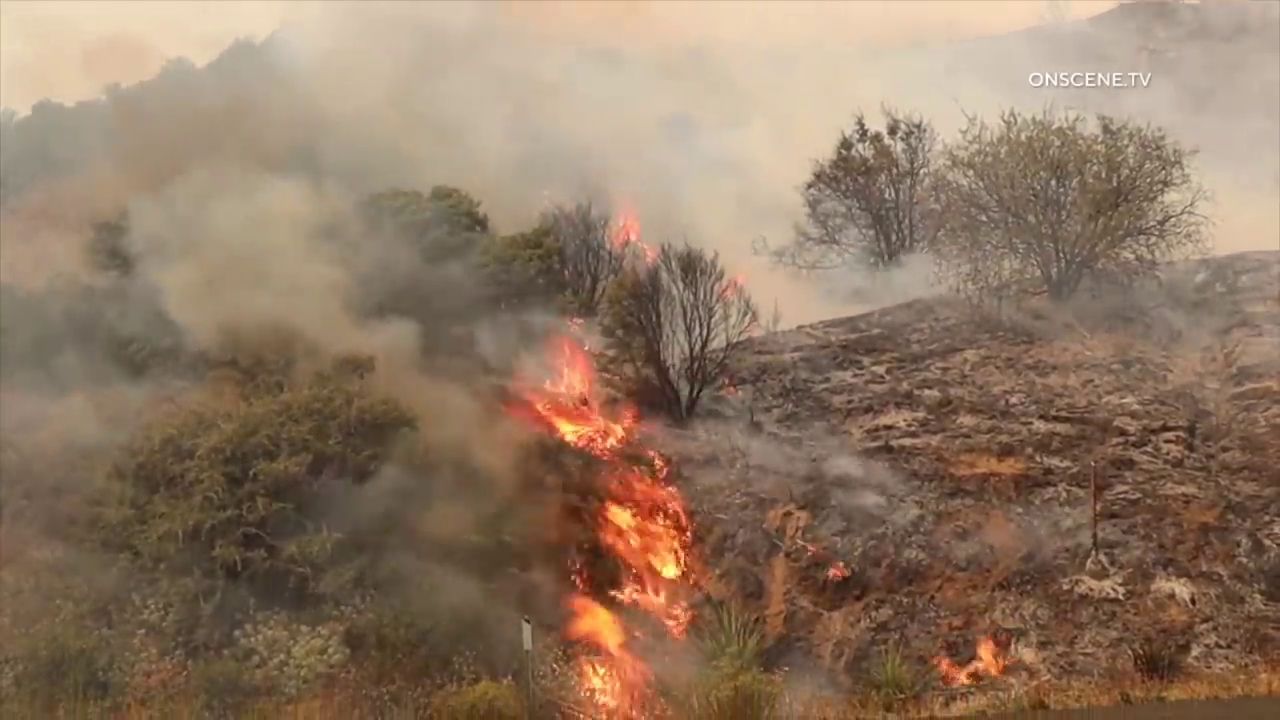forest_fire: (527, 338, 692, 638), (566, 569, 650, 717), (934, 637, 1014, 686), (611, 215, 656, 260)
